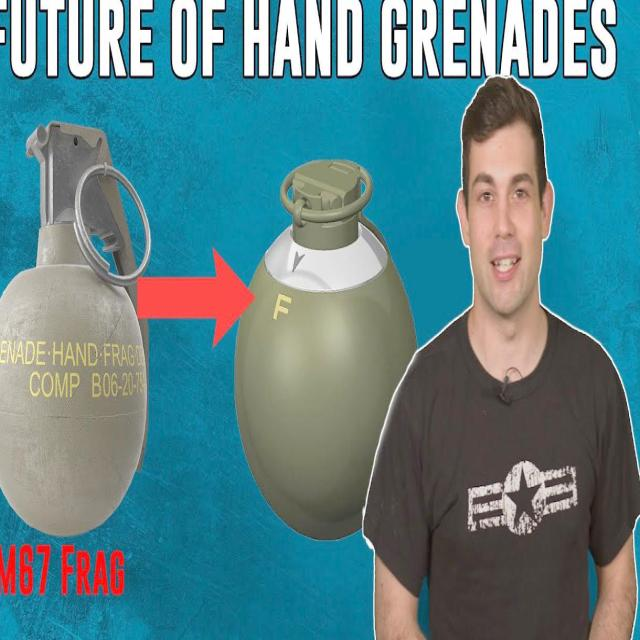grenade: (236, 162, 419, 547), (1, 123, 150, 539)
